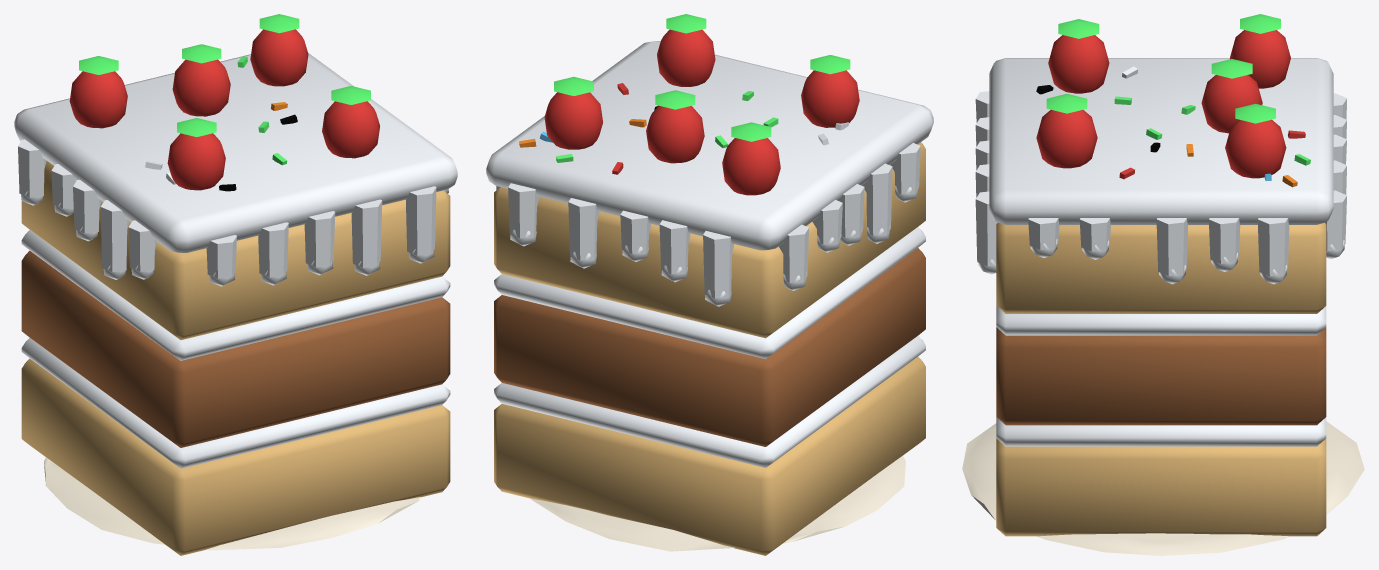
File: CakeBlock.fbx
The picture shows the model from 3 angles, left to right: view 1: azimuth 30°, elevation 25°; view 2: azimuth 150°, elevation 25°; view 3: azimuth 270°, elevation 25°; orthographic projection. The views are drawn at different scales.
Parts seen in each view (by area): view 1: CakeBlock; view 2: CakeBlock; view 3: CakeBlock.
Part boxes in pixels (left/top/right/bottom): CakeBlock: left=14, top=14, right=457, bottom=555; CakeBlock: left=486, top=14, right=933, bottom=555; CakeBlock: left=962, top=14, right=1364, bottom=555.
Size of the model in its own units: 1.7 by 1.91 by 1.71.
2 materials, 2 textured.
